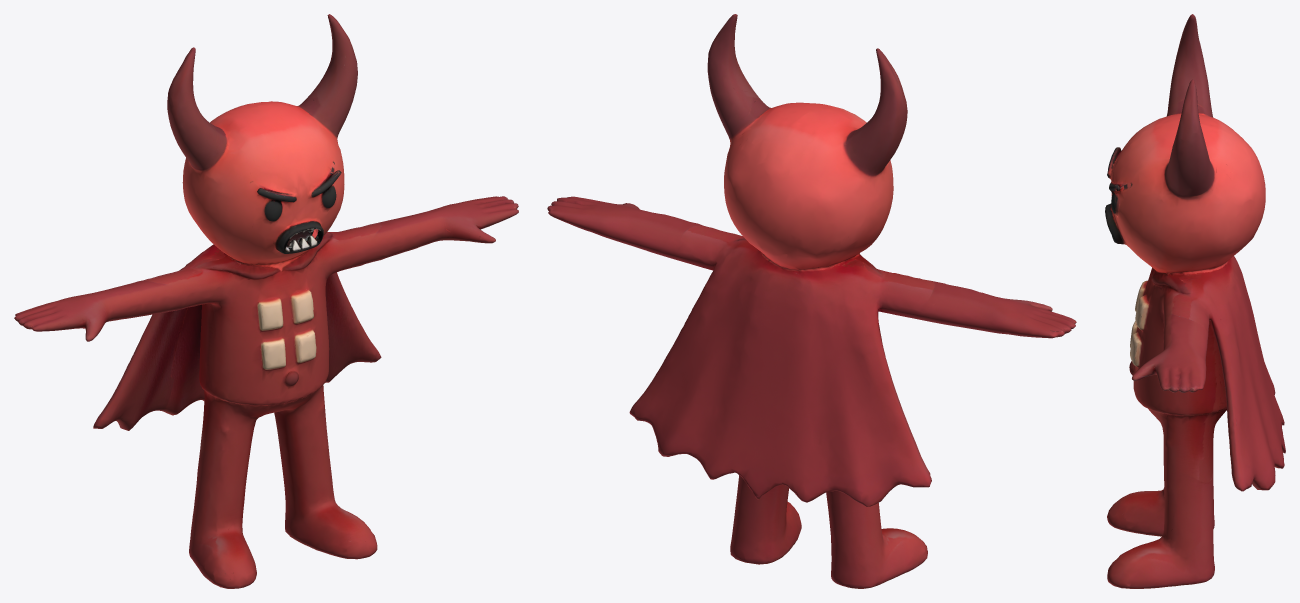
3 renders of one model, left to right at view 1: azimuth 30°, elevation 25°; view 2: azimuth 150°, elevation 25°; view 3: azimuth 270°, elevation 25°, orthographic. The views are drawn at different scales.
Size of the model in its own units: 1.91 by 1.89 by 0.6141.
1 material, 1 textured.
